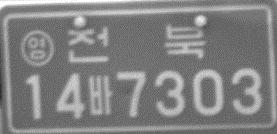0: (191, 67, 224, 117)
1: (22, 72, 52, 120)
3: (231, 67, 262, 116), (154, 69, 186, 116)
4: (54, 73, 85, 118)
7: (115, 69, 146, 118)
바: (87, 73, 113, 116)
영: (19, 28, 55, 68)
전북_D: (65, 24, 207, 63)
